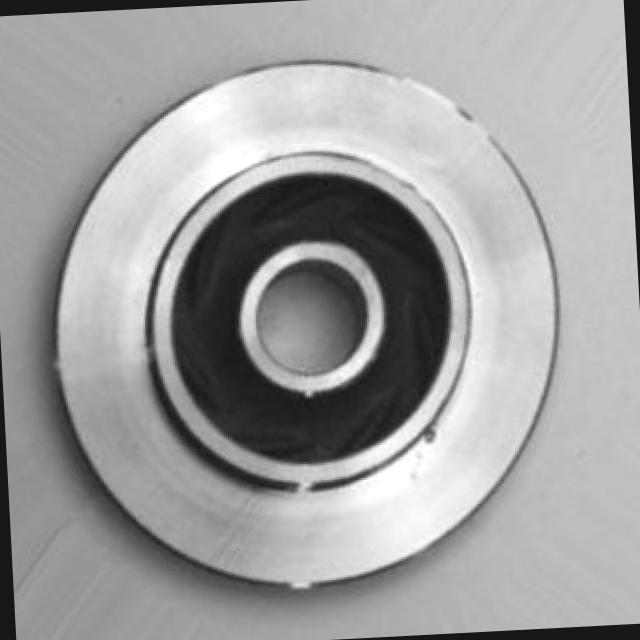Defect: (414, 424, 449, 452)
